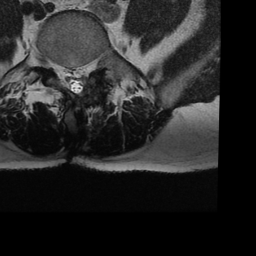CCS_normal: (69, 55, 80, 99)
LFS_normal: (89, 48, 98, 79)
LLS_normal: (79, 56, 89, 94)
RFS_normal: (47, 47, 57, 79)
RLS_normal: (57, 53, 68, 92)
